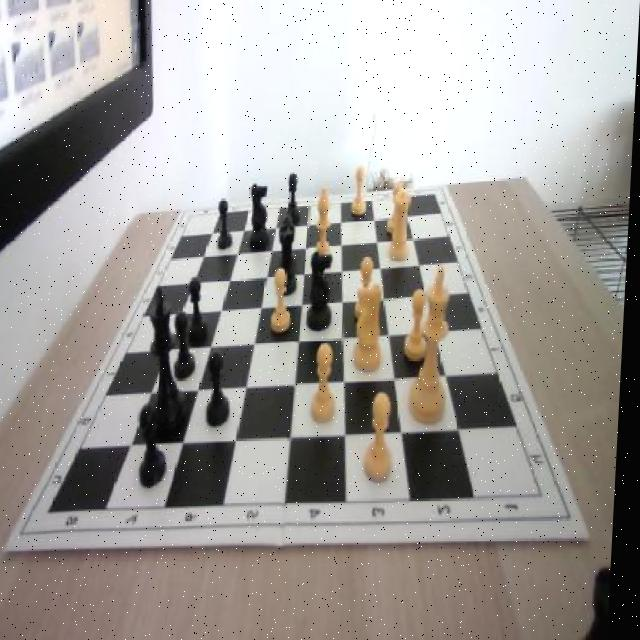black-bishop: (145, 292, 196, 437)
black-king: (307, 249, 339, 330), (250, 180, 274, 252)
black-knight: (142, 403, 174, 487), (207, 349, 236, 426), (176, 311, 203, 380), (189, 275, 214, 343), (219, 198, 237, 252), (286, 171, 304, 221)
black-queen: (276, 222, 303, 298)
black-rook: (314, 188, 339, 268)
white-bishop: (411, 264, 460, 424)
white-king: (352, 274, 395, 375)
white-knight: (367, 392, 403, 482), (310, 340, 345, 425), (405, 288, 436, 364), (357, 257, 384, 325), (272, 266, 296, 332), (388, 183, 408, 233), (351, 168, 371, 216), (286, 171, 304, 221)
white-queen: (389, 191, 415, 261)
